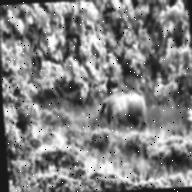boar: (79, 76, 159, 152)
